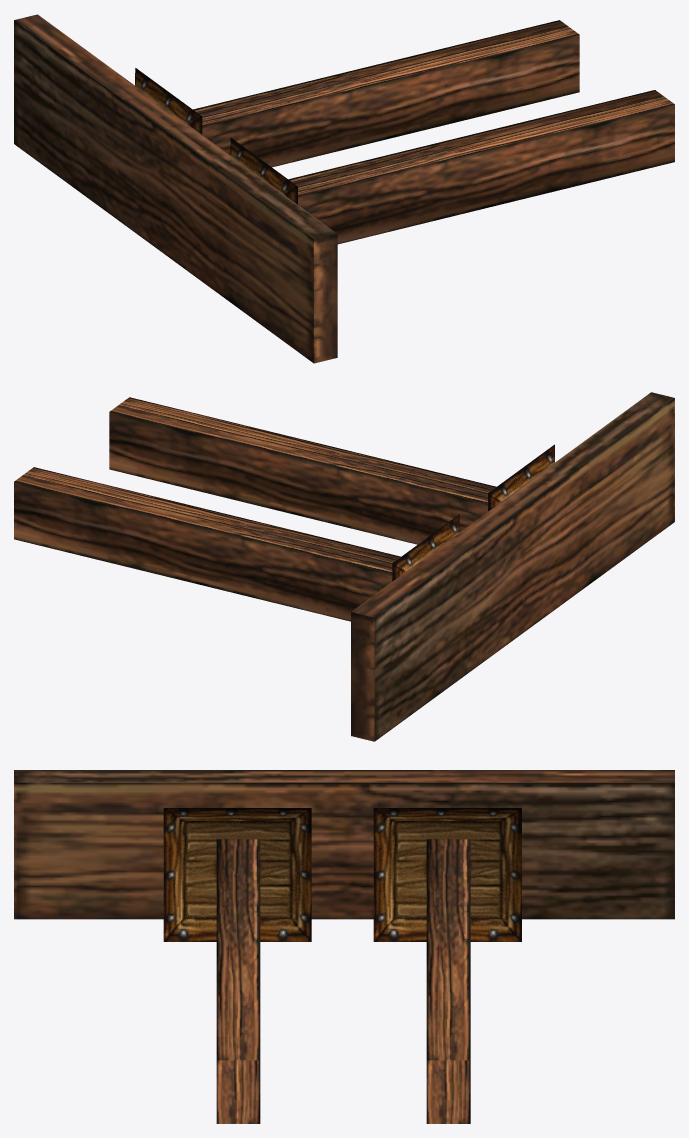
File: INST_WH_PUSHPLATFORM_01.fbx
3 views of the same model, one above another, from view 1: azimuth 30°, elevation 25°; view 2: azimuth 150°, elevation 25°; view 3: azimuth 270°, elevation 25° (orthographic). The views are drawn at different scales.
Visible parts, largest first — view 1: INST_WH_PUSHPLATFORM_01; view 2: INST_WH_PUSHPLATFORM_01; view 3: INST_WH_PUSHPLATFORM_01.
Boxes of the visible parts, box(x1,y1,x2,y2) form: INST_WH_PUSHPLATFORM_01: box(14, 14, 674, 363); INST_WH_PUSHPLATFORM_01: box(14, 392, 674, 741); INST_WH_PUSHPLATFORM_01: box(14, 770, 674, 1123).
Bounding box in the file's own units: 21028 × 5805 × 24117.
3 materials, 3 textured.
